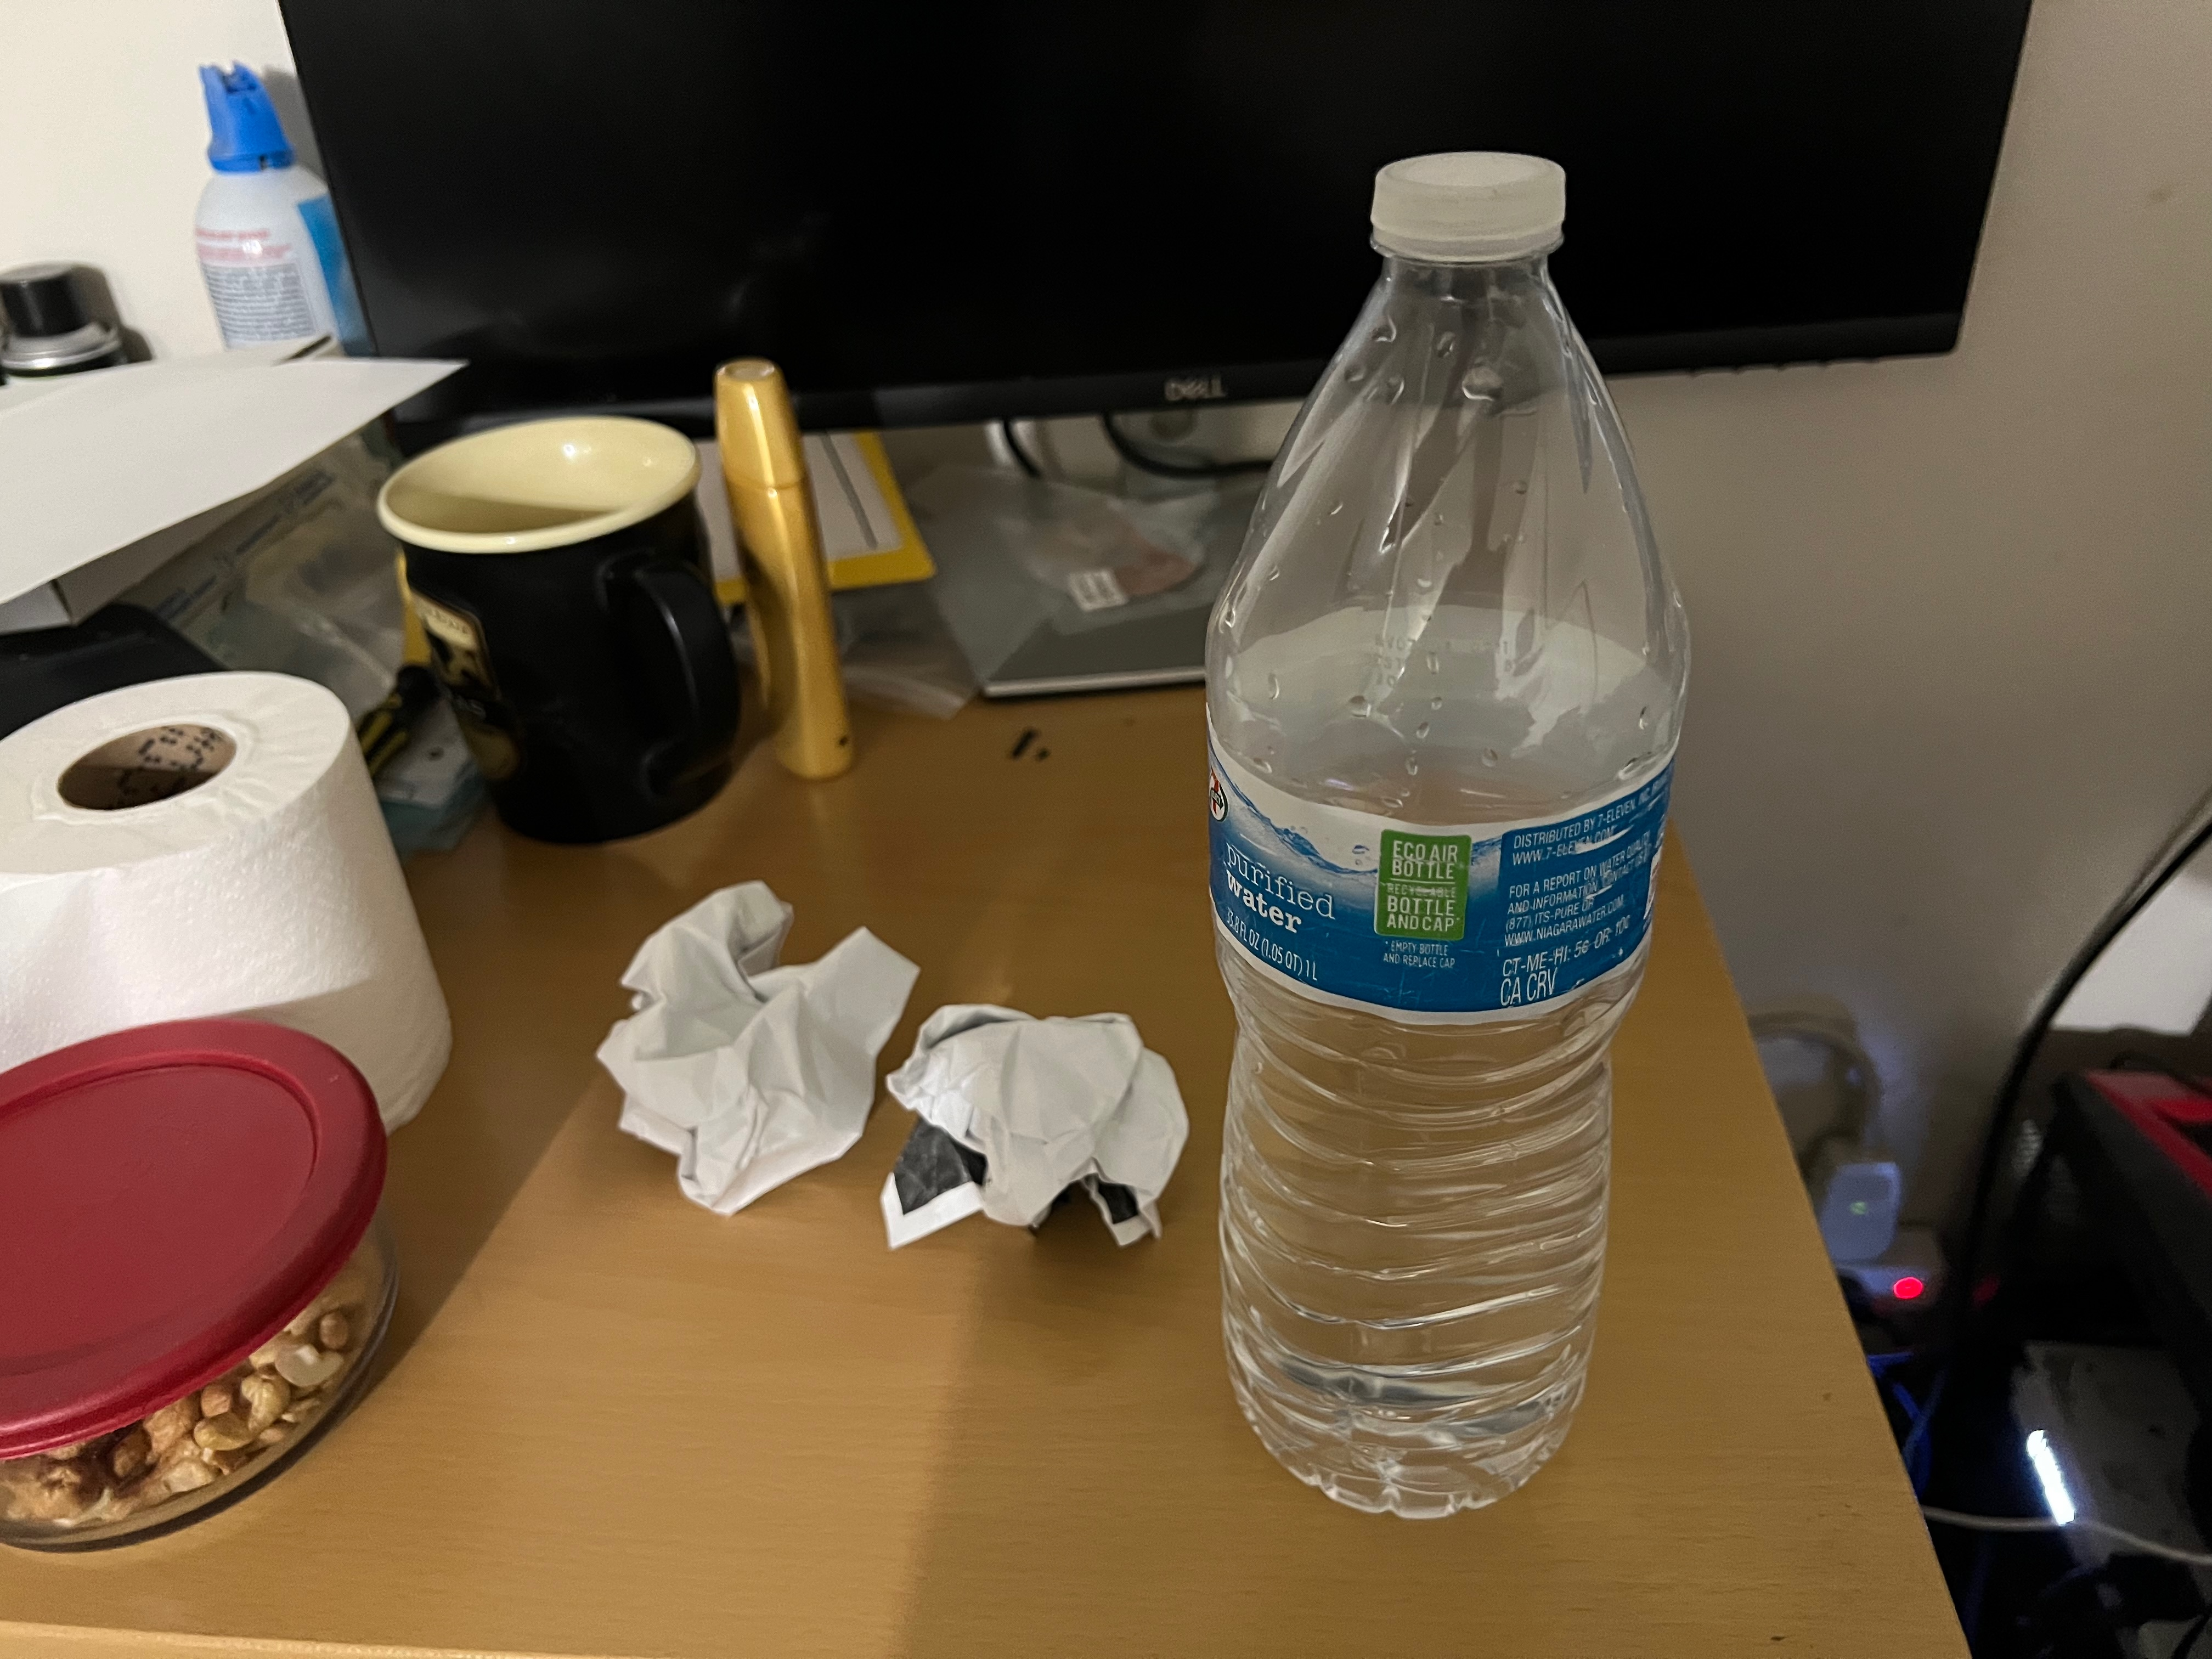trash bottle: (1216, 125, 1693, 1553)
trash paper: (885, 931, 1197, 1314), (585, 852, 862, 1232)
